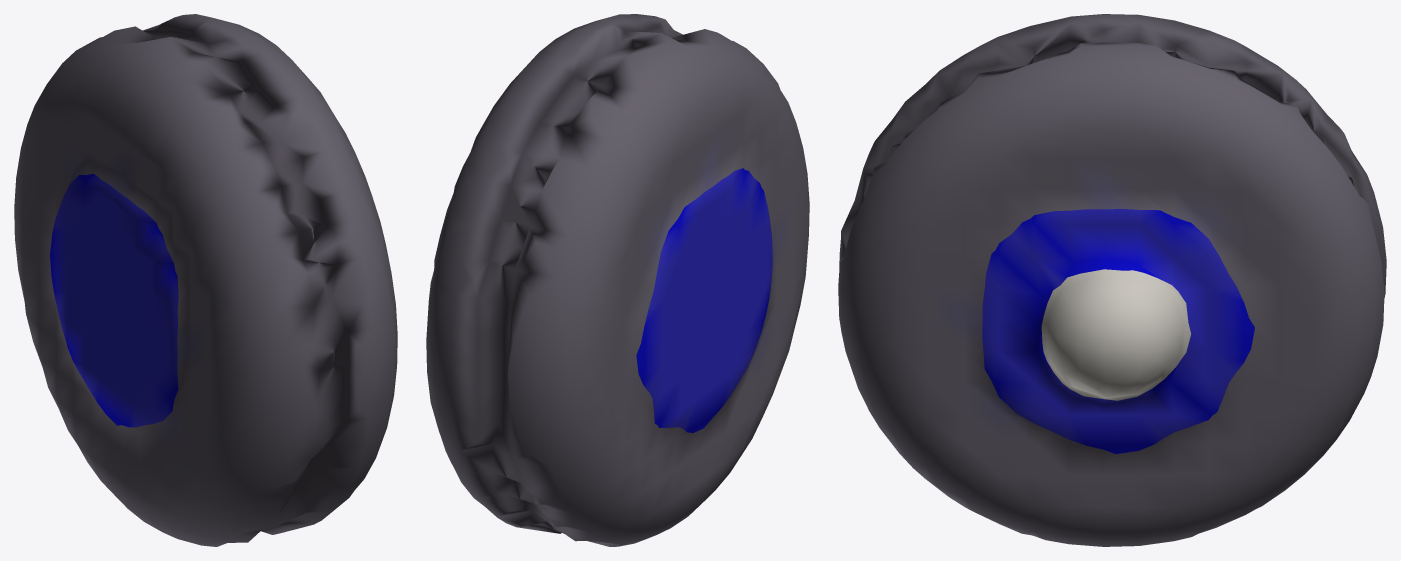
The model's file is wheel_tread.glb.
3 renders of one model, left to right at view 1: azimuth 30°, elevation 25°; view 2: azimuth 150°, elevation 25°; view 3: azimuth 270°, elevation 25°, orthographic. The views are drawn at different scales.
Visible parts, largest first — view 1: wheel_tread; view 2: wheel_tread; view 3: wheel_tread.
Boxes of the visible parts, x1,y1,x2,y2 form: wheel_tread: [14, 14, 397, 546]; wheel_tread: [426, 14, 809, 546]; wheel_tread: [838, 14, 1386, 546].
Bounding box in the file's own units: 7.65 × 14.33 × 14.39.
